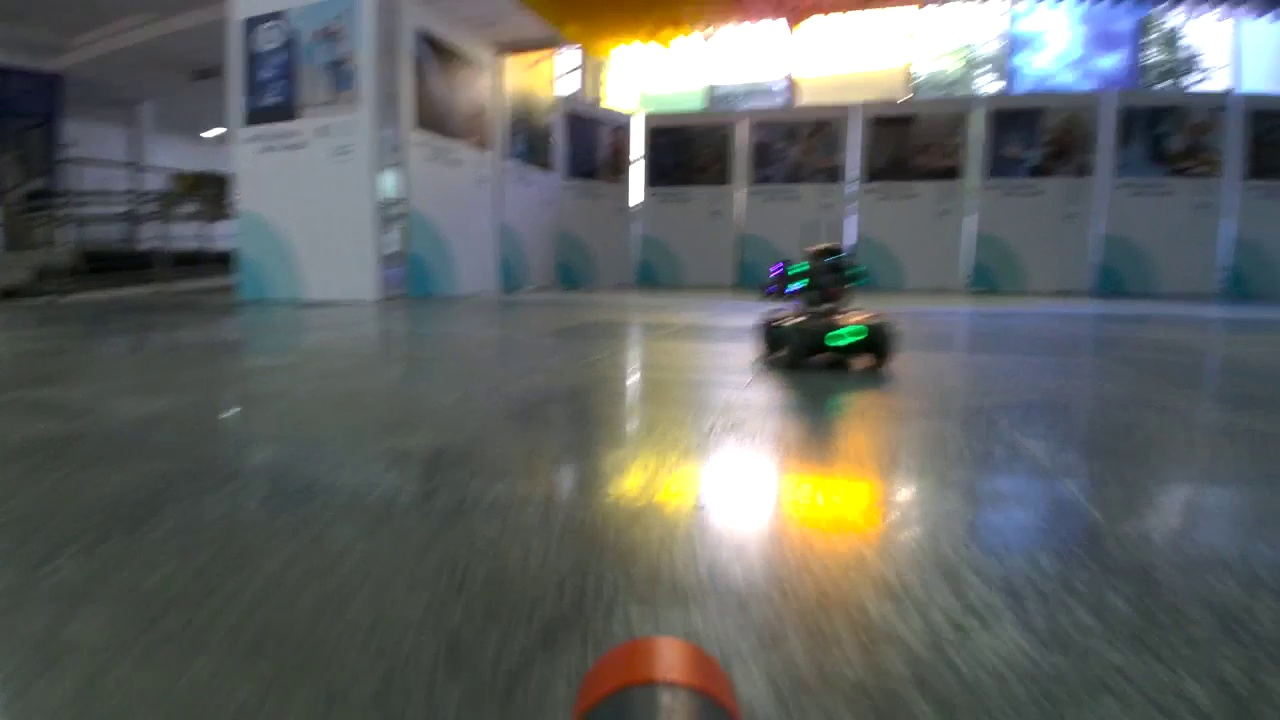robot: (762, 239, 891, 373)
